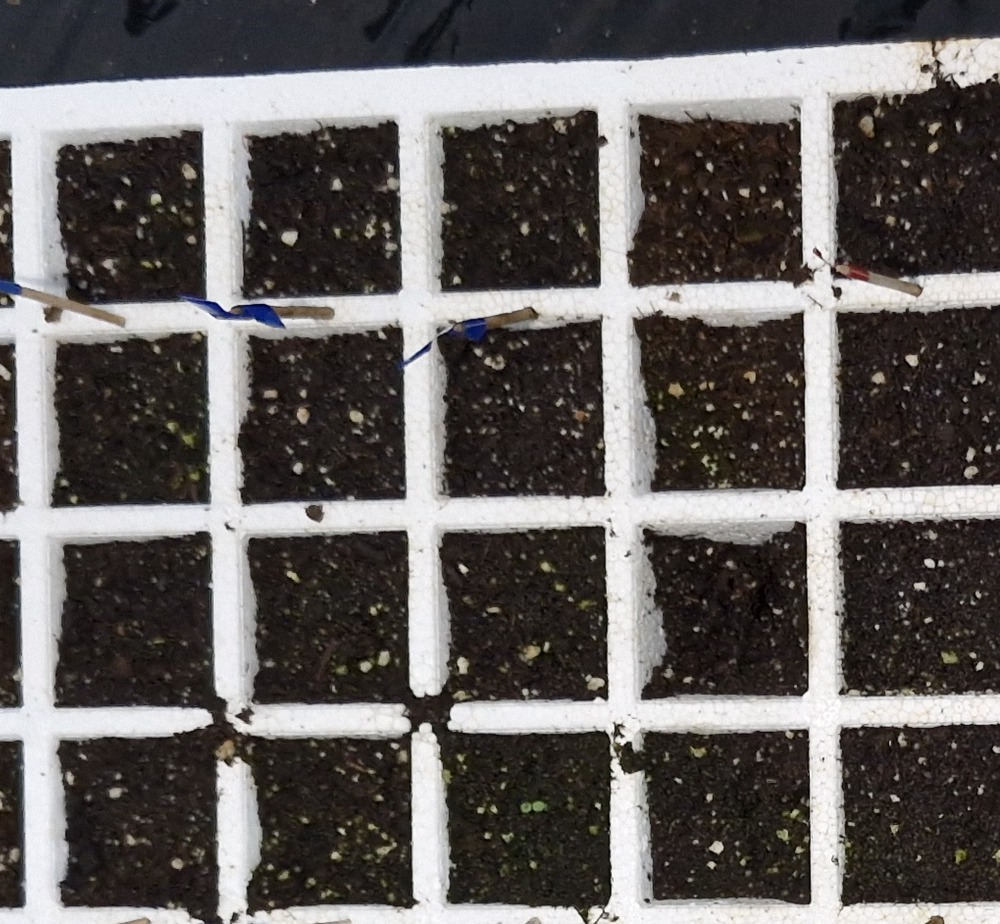Folha: (521, 803, 532, 813), (533, 802, 545, 811)
Germinacao: (520, 801, 545, 813)
